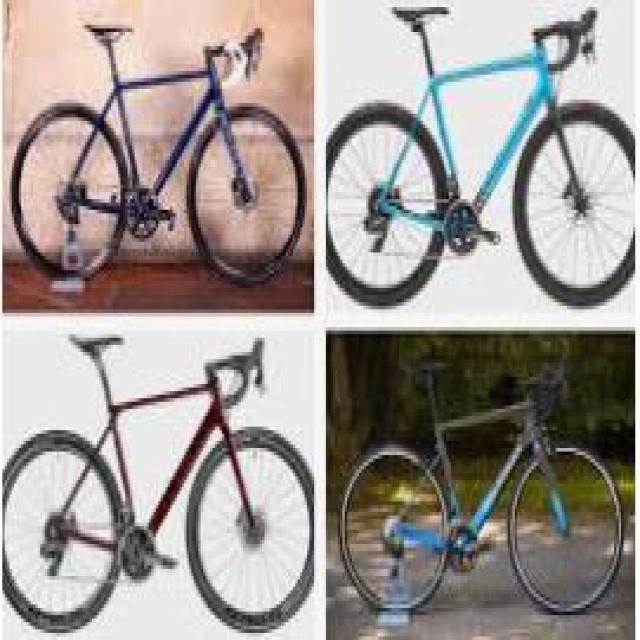bicycle: (322, 4, 639, 314), (1, 324, 315, 634), (11, 19, 306, 293), (339, 353, 625, 623)
